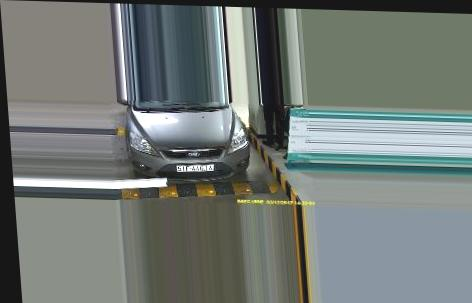License_Plate: (176, 162, 217, 175)
